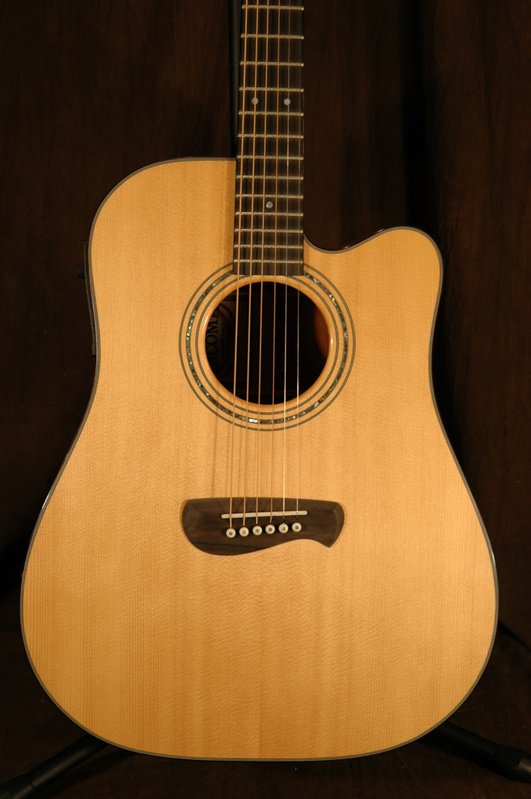guitar: (21, 1, 503, 764)
